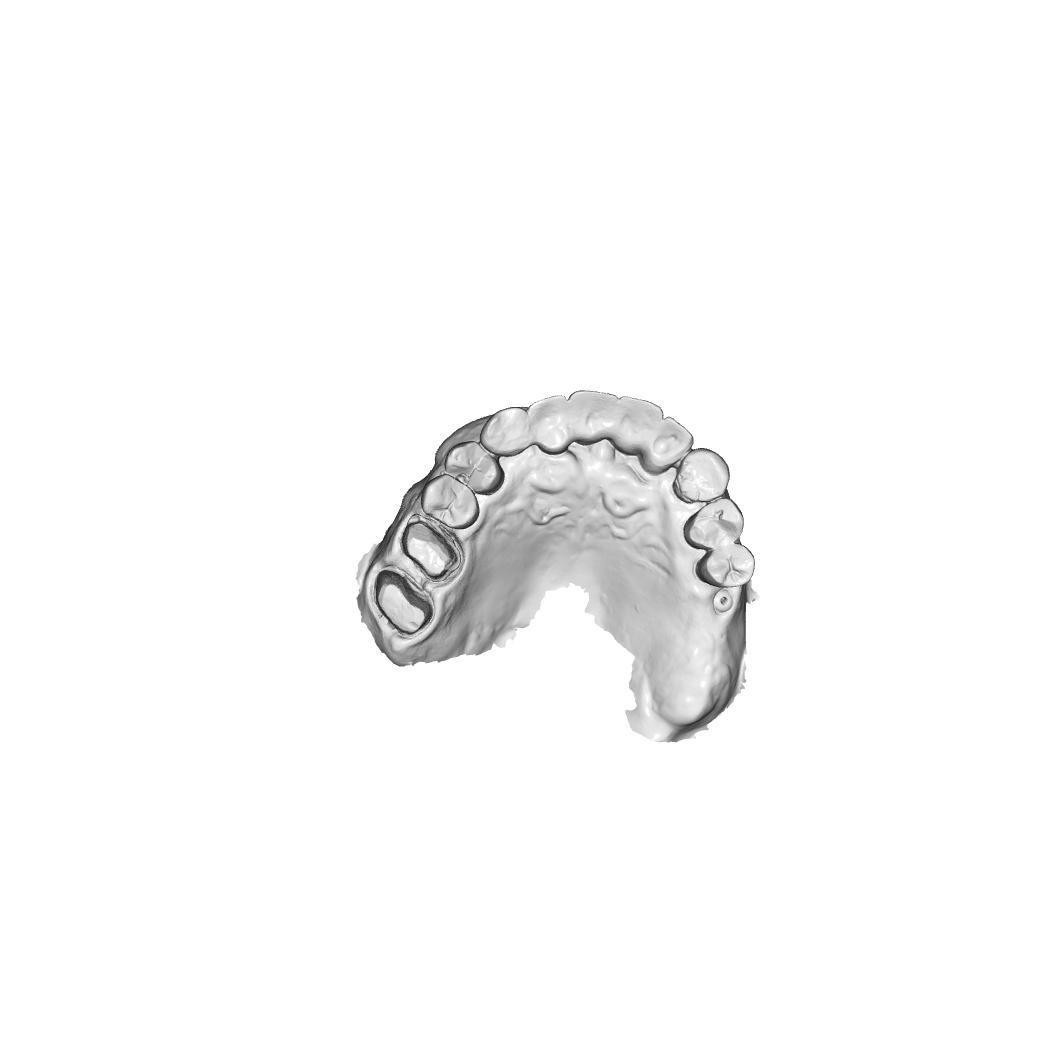canine: (672, 446, 731, 504), (478, 405, 530, 458)
crown: (371, 565, 435, 639), (400, 513, 461, 582)
implant: (712, 588, 735, 613)
incisor: (640, 415, 694, 476), (612, 395, 664, 458), (568, 389, 619, 446), (526, 394, 569, 455)
premolar: (443, 440, 505, 497), (420, 473, 480, 531), (683, 496, 745, 551), (695, 542, 756, 588)
